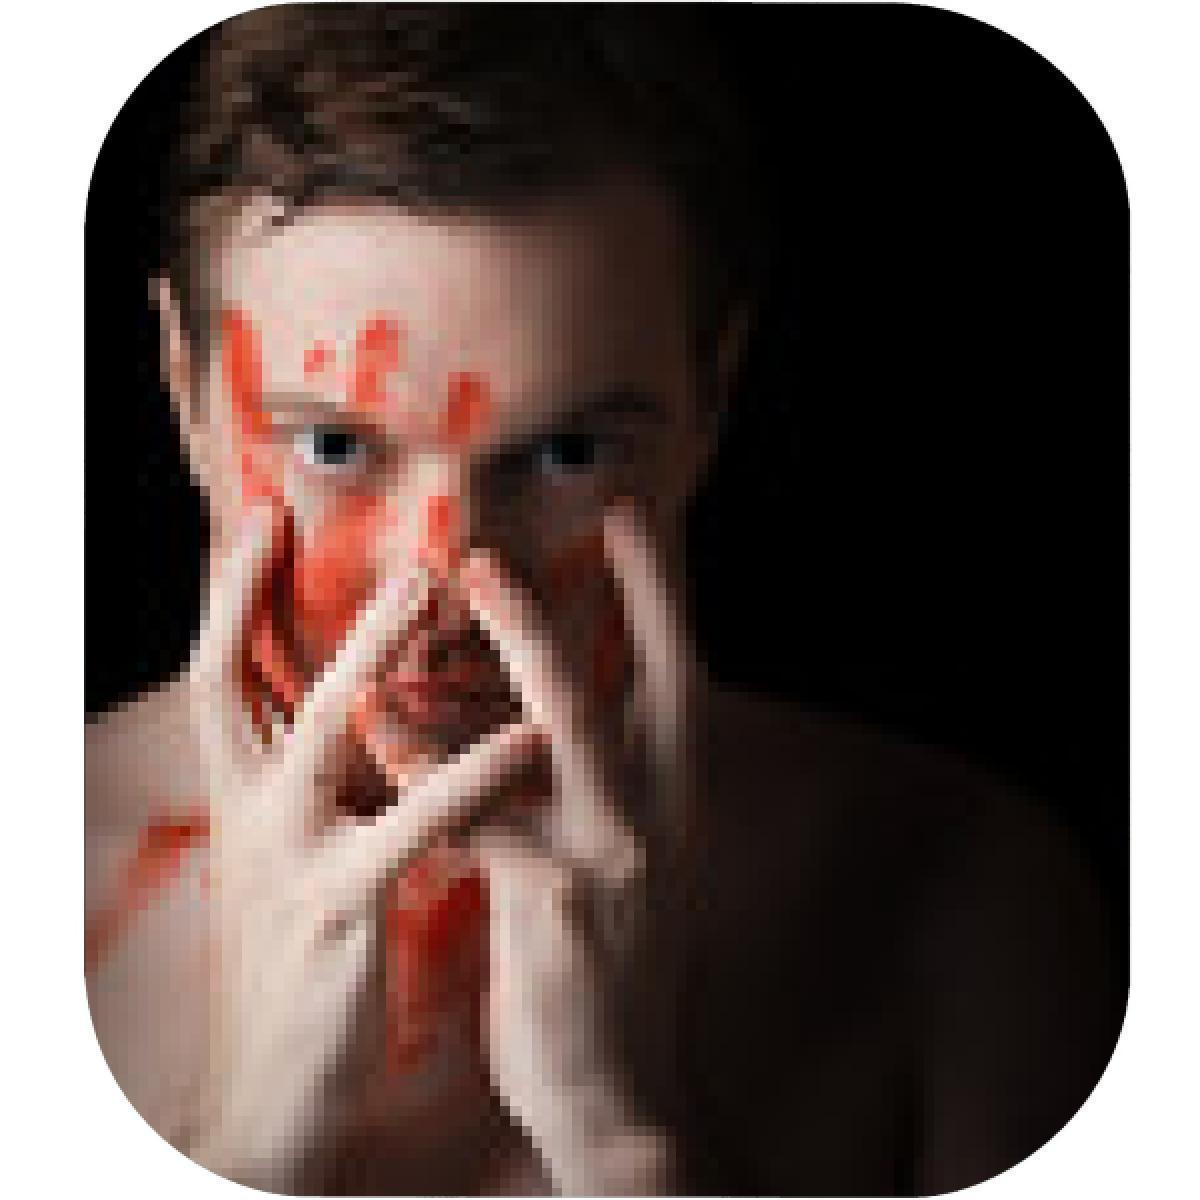Fire: (192, 297, 554, 815), (385, 851, 487, 1077), (85, 807, 209, 982)
